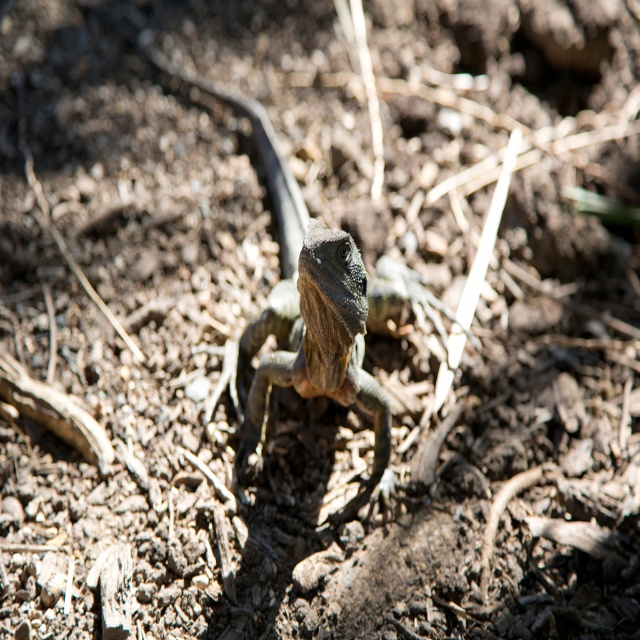Lizard: (108, 22, 418, 528)
